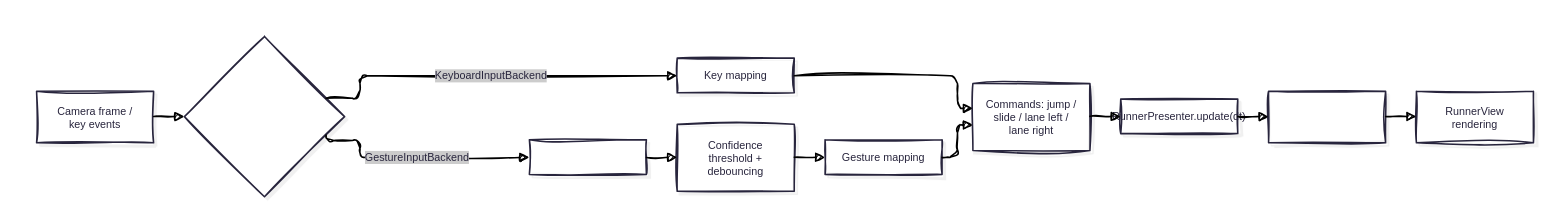
This 1550x213 diagram has some shape labels left out. Here are the shapes that lost their labels. From the top down, the centre of each, then its label:
At (265,117): "InputBackend.poll()".
At (1328,118): "GameModel state changes".
At (589,158): "GesturePredictor.predict()".
